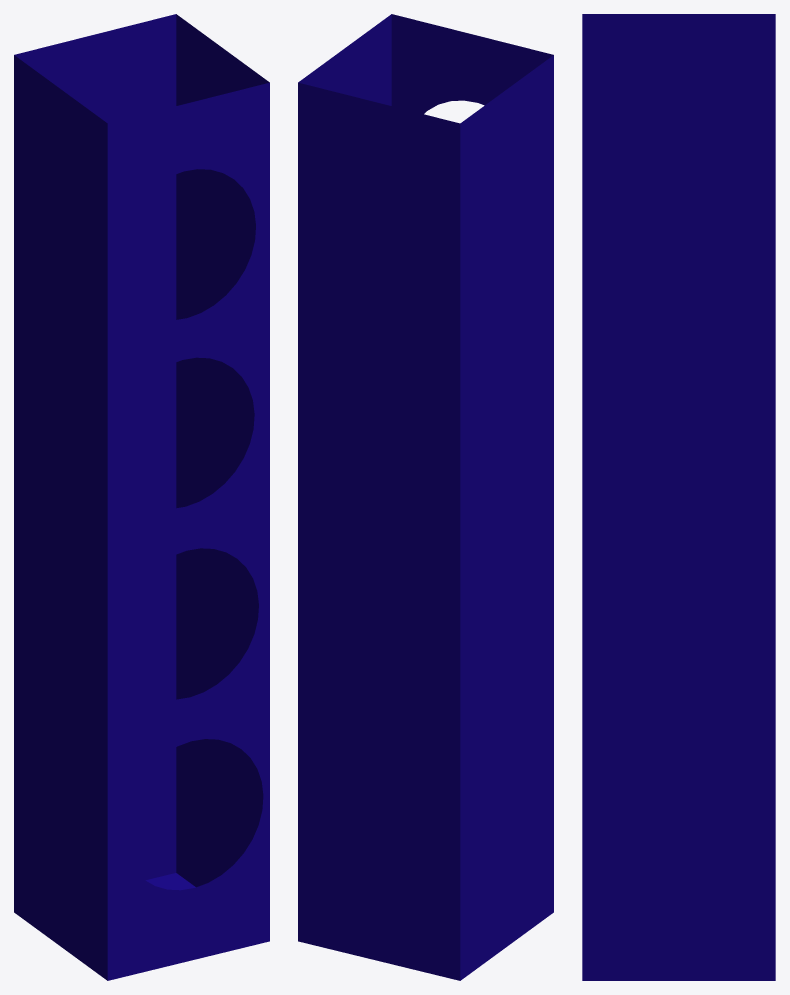
The model's file is Rectangle_Basket.fbx.
The picture shows the model from 3 angles, left to right: view 1: azimuth 30°, elevation 25°; view 2: azimuth 150°, elevation 25°; view 3: azimuth 270°, elevation 25°; orthographic projection. The views are drawn at different scales.
Parts seen in each view (by area): view 1: Cube; view 2: Cube; view 3: Cube.
Boxes of the visible parts, x1,y1,x2,y2 form: Cube: [14, 14, 269, 980]; Cube: [298, 14, 553, 980]; Cube: [582, 14, 775, 980].
Size of the model in its own units: 2775 by 14033 by 2775.
